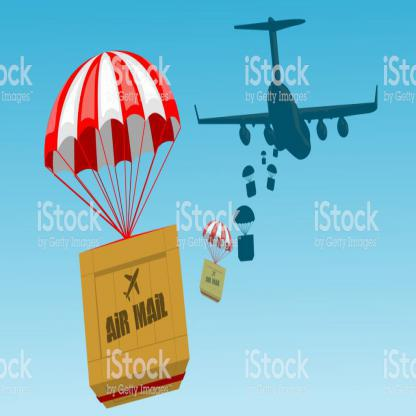CIV_Plane: (190, 16, 379, 166)
